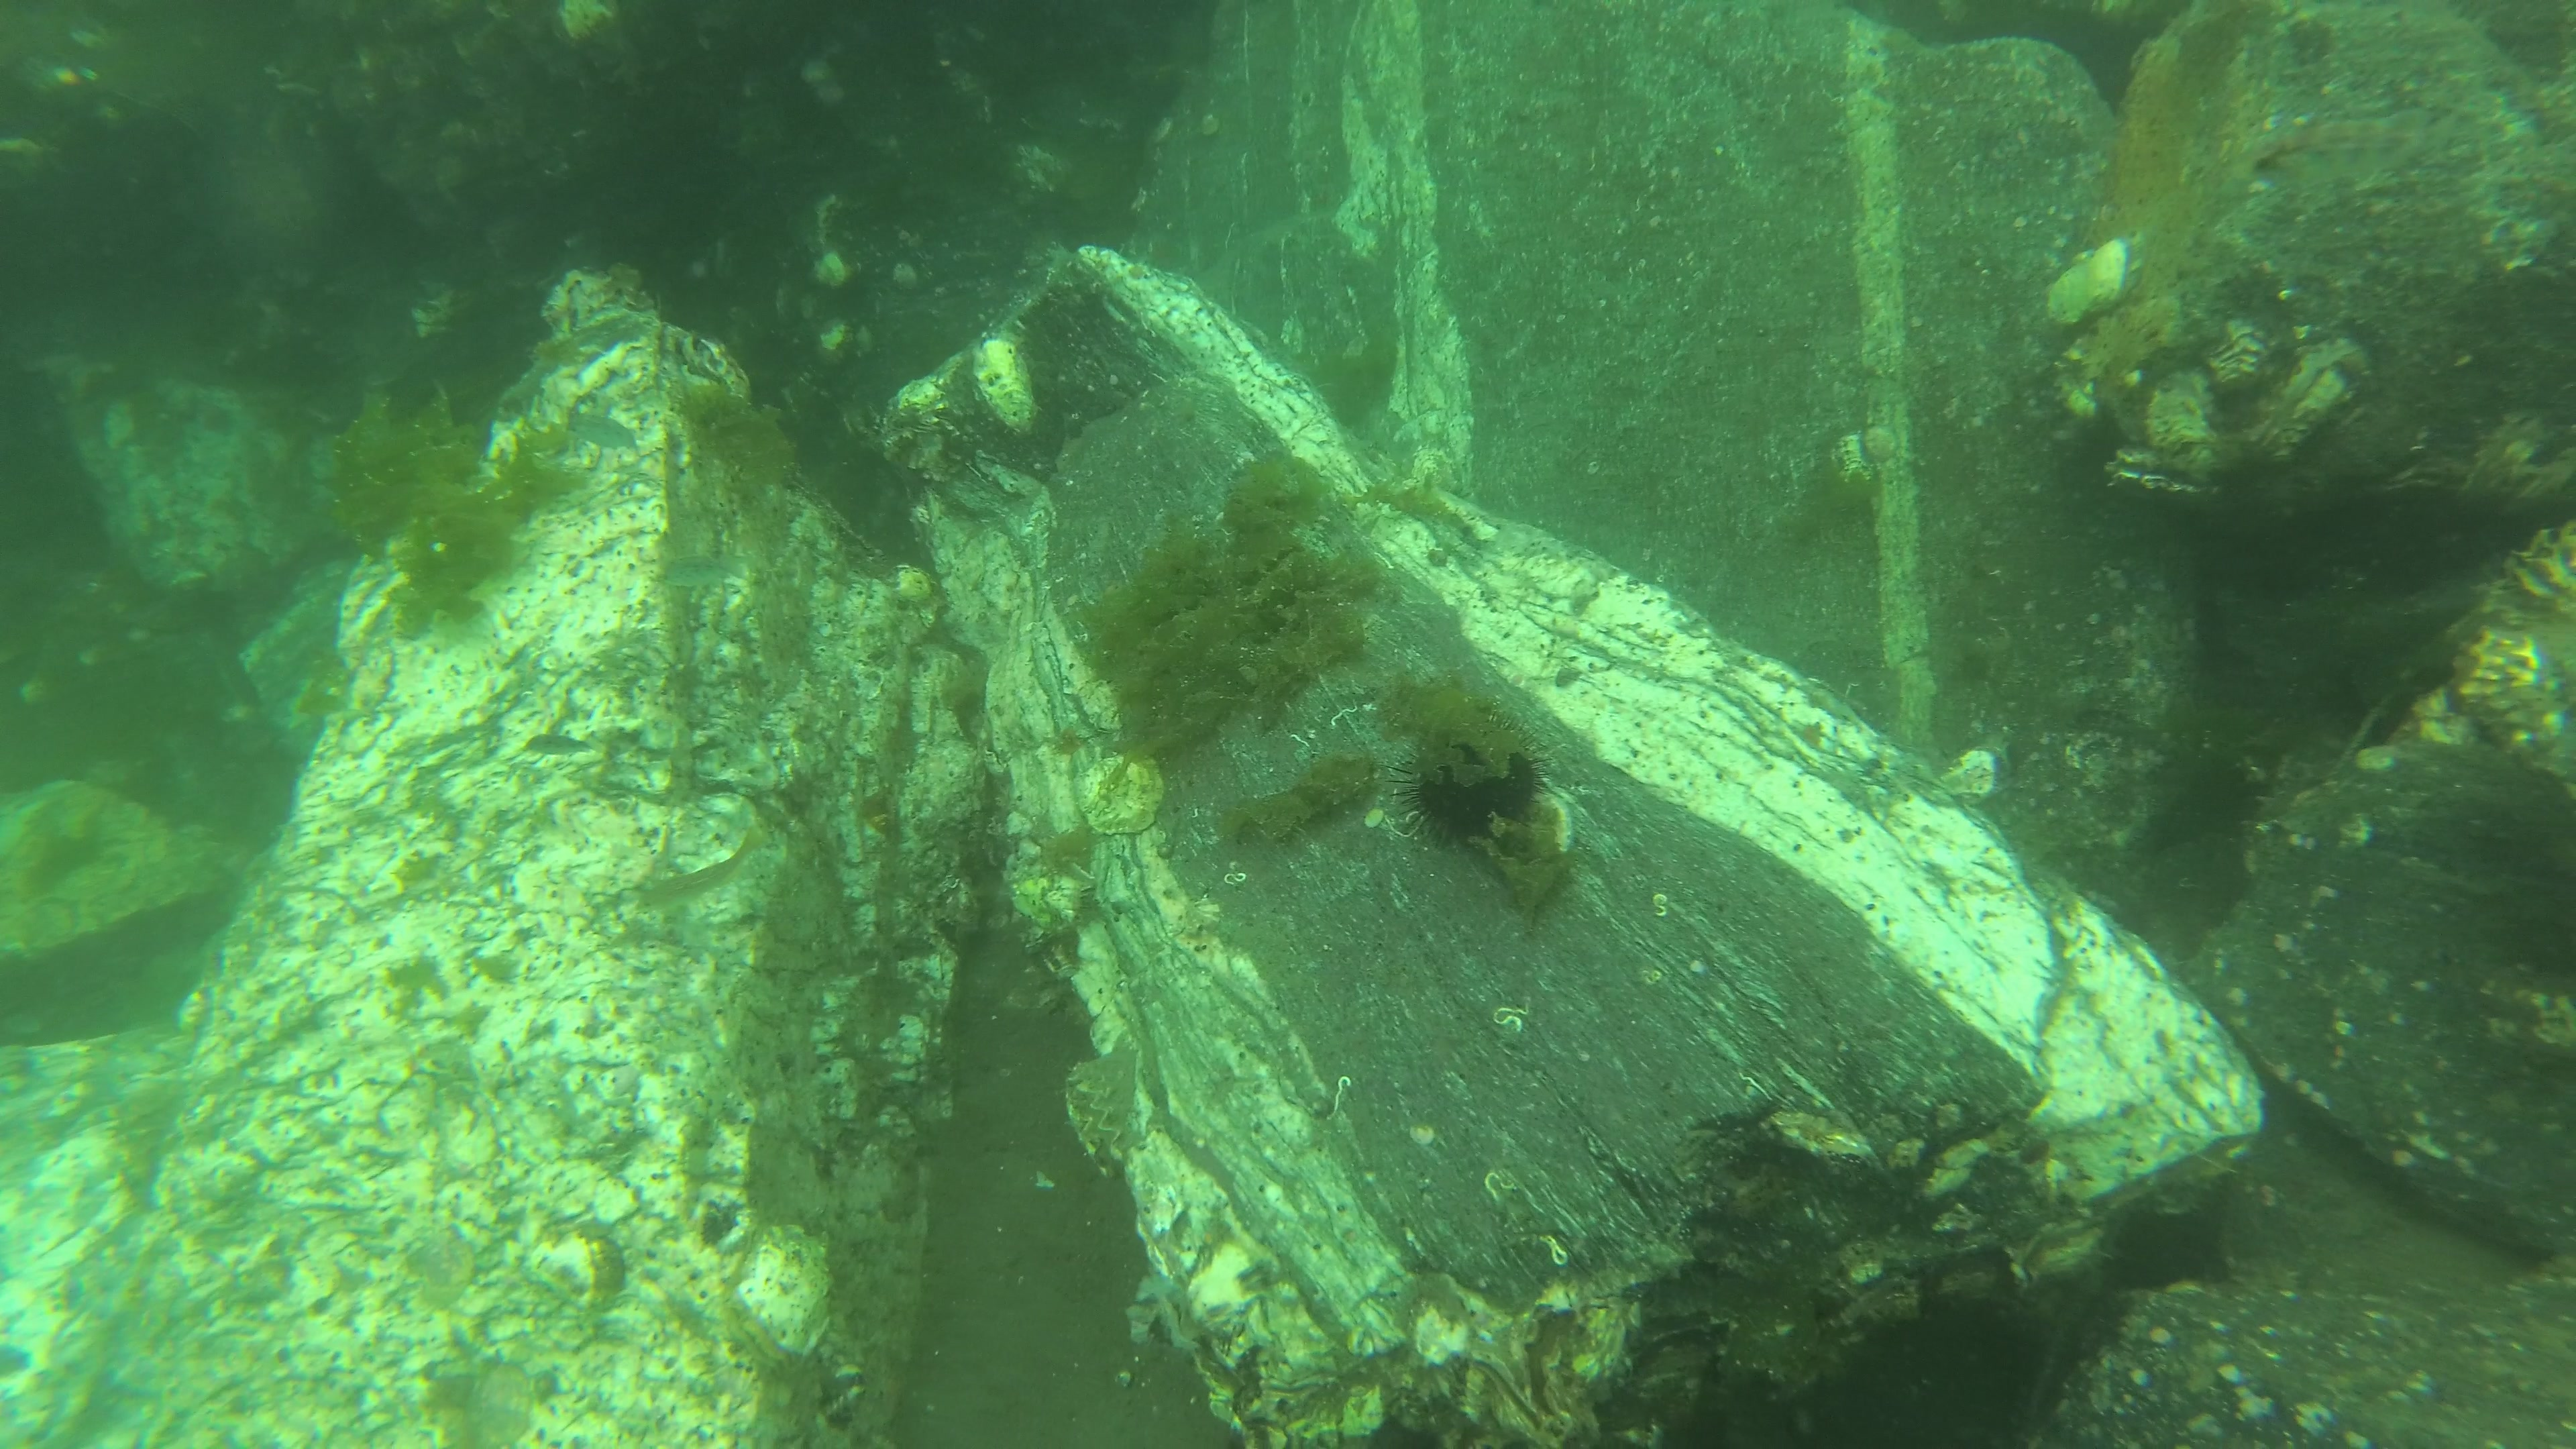echinus: (1394, 732, 1555, 853)
